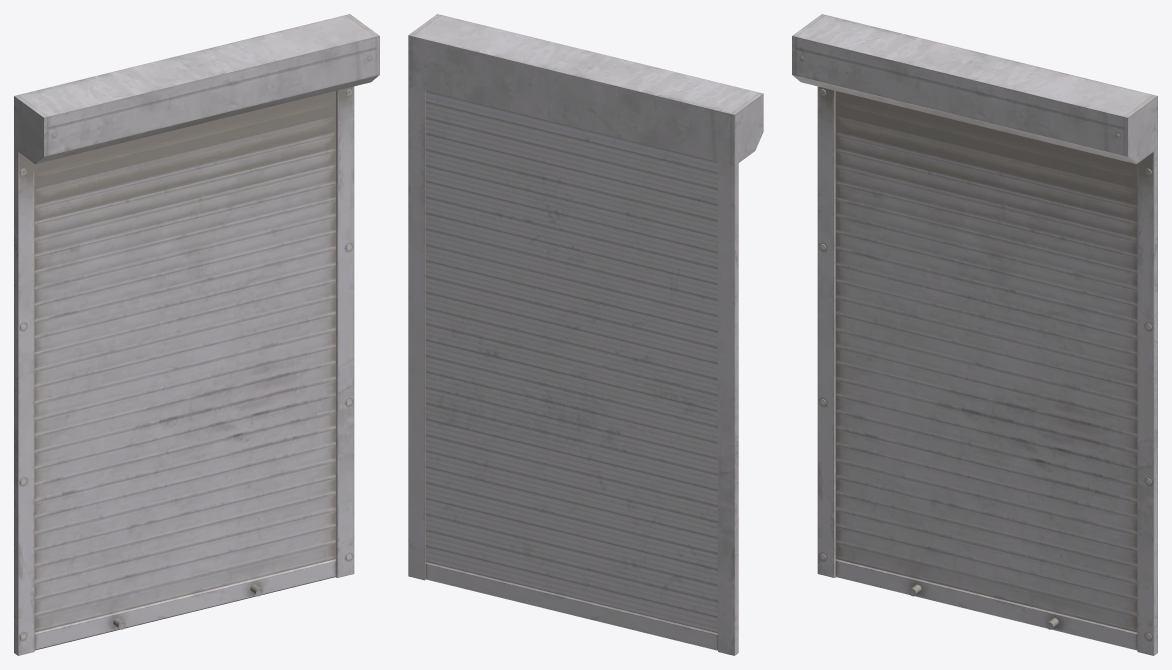
Rendered from window-shutter.glb.
3 renders of one model, left to right at view 1: azimuth 30°, elevation 25°; view 2: azimuth 150°, elevation 25°; view 3: azimuth 330°, elevation 25°, orthographic. The views are drawn at different scales.
Visible parts, largest first — view 1: rollershutter_window_03; view 2: rollershutter_window_03; view 3: rollershutter_window_03.
Part boxes in pixels (x1,y1,x2,y2): rollershutter_window_03: (14,14,379,655); rollershutter_window_03: (408,14,763,655); rollershutter_window_03: (792,14,1157,655).
Size of the model in its own units: 0.9762 by 1.55 by 0.1531.
Materials: 1 (1 with a texture image).
